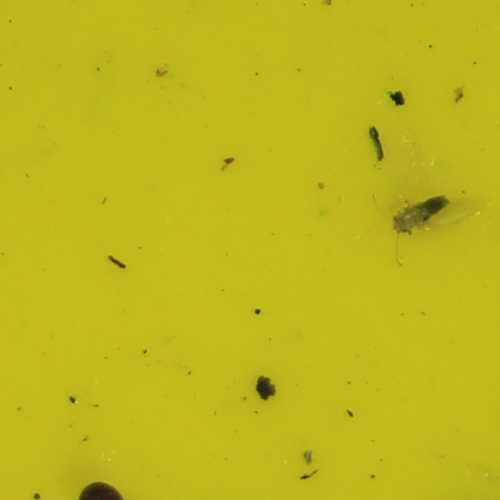Glycaspis: (386, 193, 453, 234)
